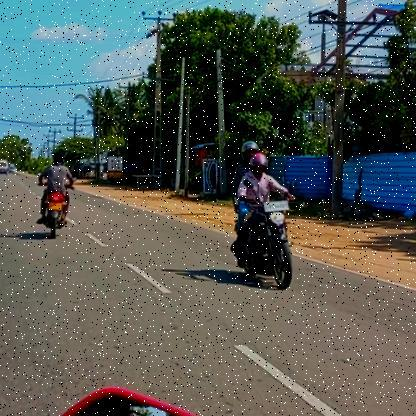motorcycle: (226, 195, 306, 292), (32, 189, 72, 244)
